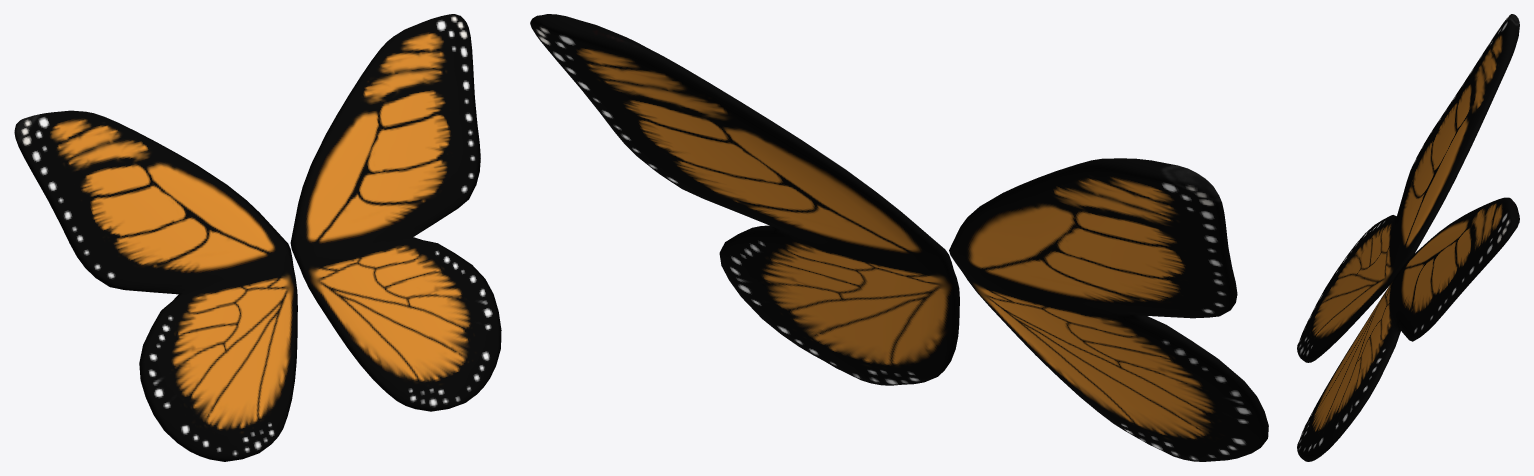
The model's file is AsasDeBorboleta.fbx.
3 views of the same model, side by side, from view 1: azimuth 30°, elevation 25°; view 2: azimuth 150°, elevation 25°; view 3: azimuth 270°, elevation 25° (orthographic). The views are drawn at different scales.
Parts seen in each view (by area): view 1: Asas de Borboleta; view 2: Asas de Borboleta; view 3: Asas de Borboleta.
Boxes of the visible parts, bbox=[...] form: Asas de Borboleta: bbox=[14, 14, 501, 461]; Asas de Borboleta: bbox=[530, 14, 1268, 461]; Asas de Borboleta: bbox=[1297, 14, 1519, 461].
Size of the model in its own units: 243 by 150 by 105.
